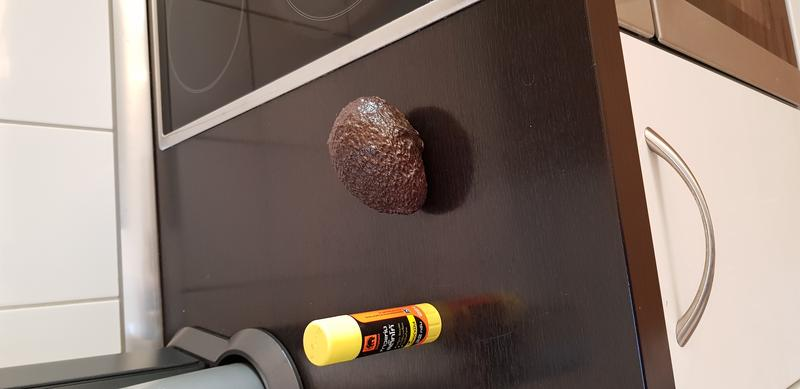Avocado: (322, 93, 431, 222)
Glue-Stick: (299, 297, 452, 371)
